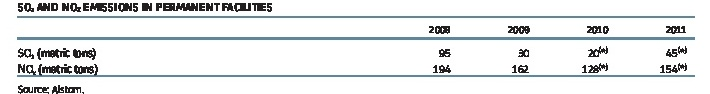table: (0, 0, 710, 94)
